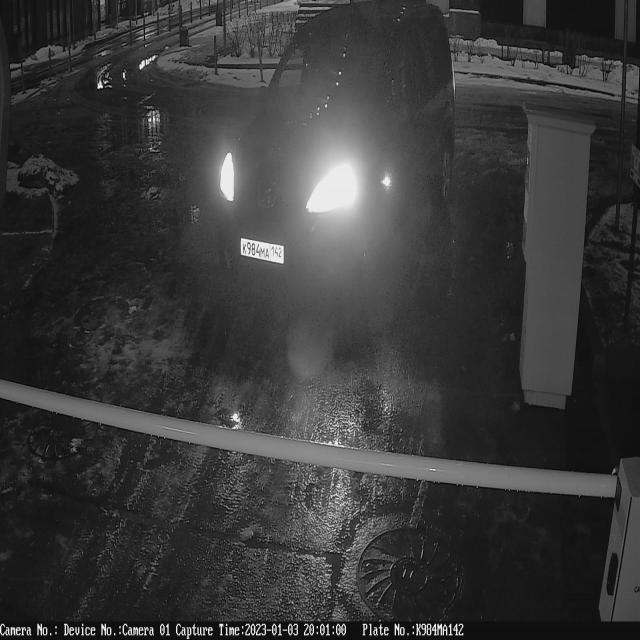car-plate-numbers: (238, 234, 287, 269)
